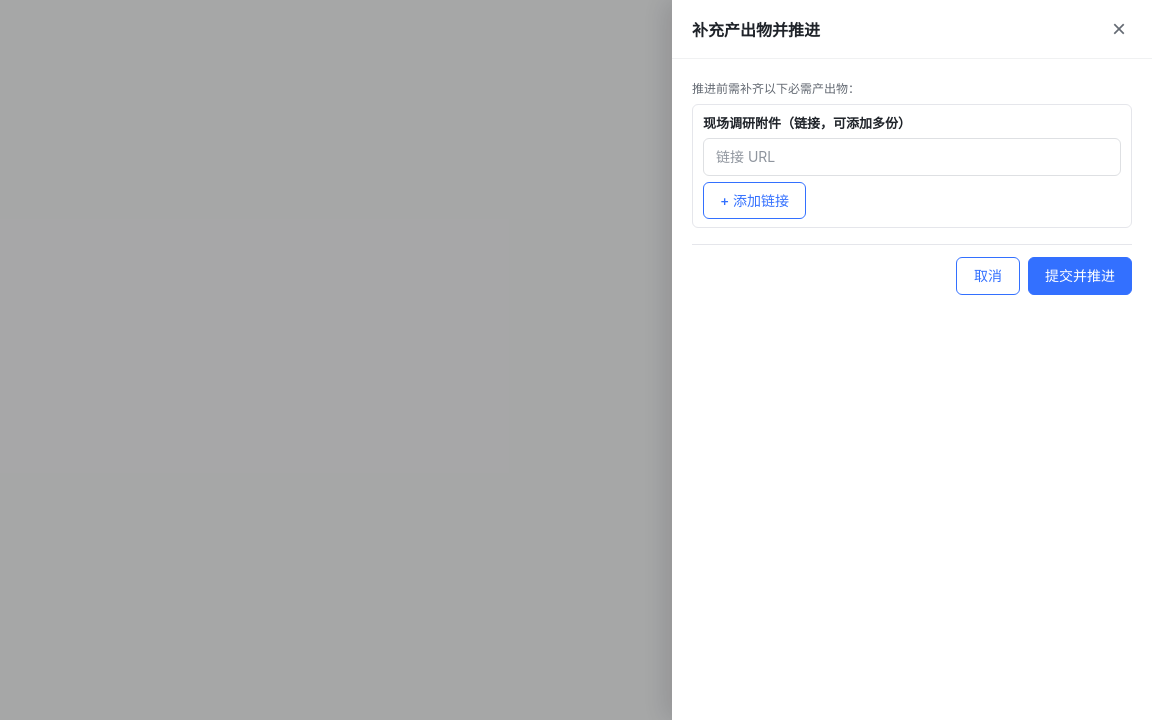
Test: ArtifactSupplementDrawer › blocks submit when a required link list is empty
Click the button with test id "delivery-supp-save" at (1080, 276), box [1028,257,1132,295]
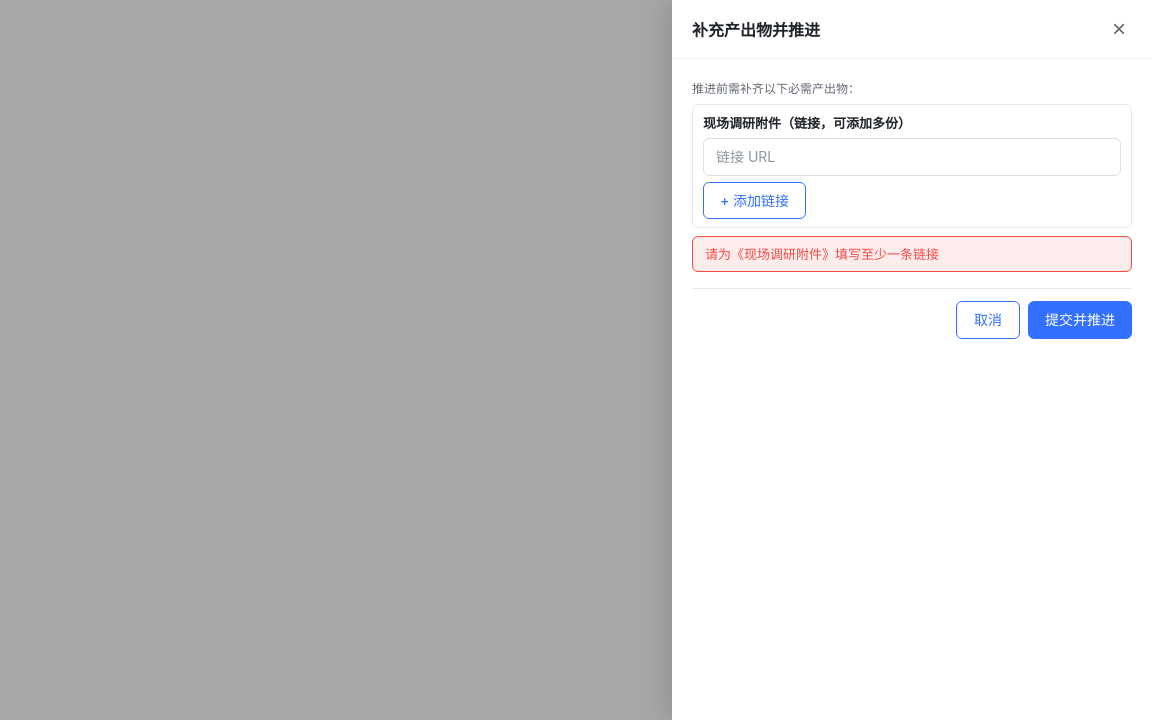
Result: the text with test id "delivery-supp-error" shows "链接" at [692,236,1132,272]
